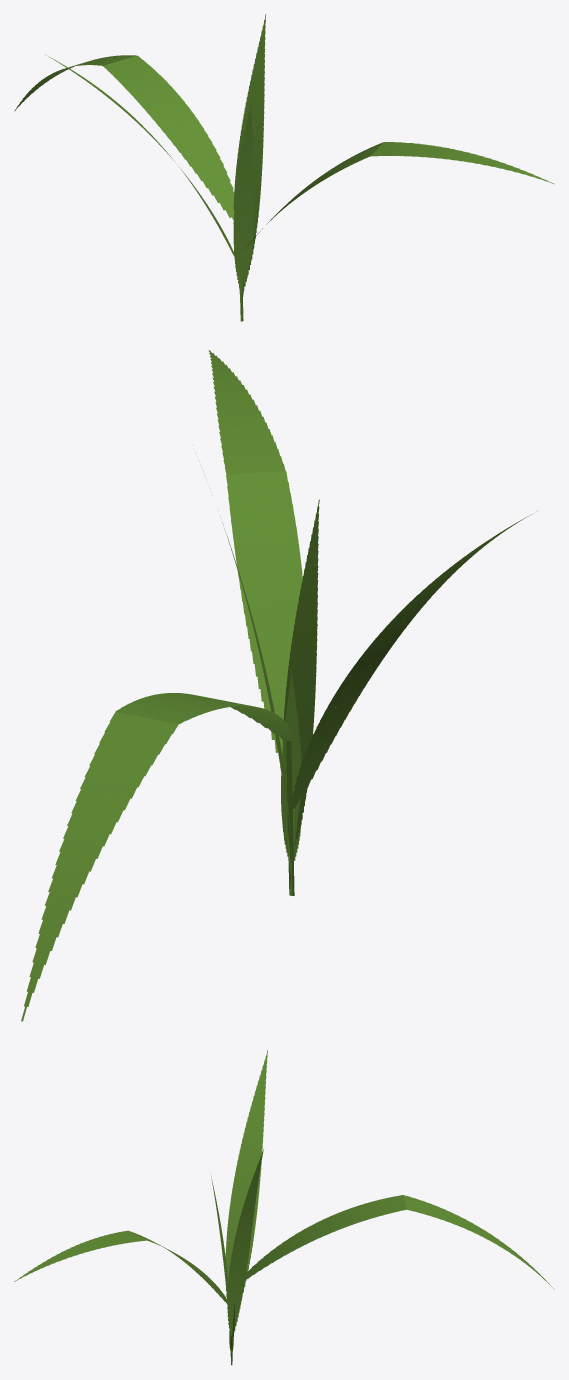
File: maize_004_day_055.dae
3 views of the same model, one above another, from view 1: azimuth 30°, elevation 25°; view 2: azimuth 150°, elevation 25°; view 3: azimuth 270°, elevation 25° (orthographic). The views are drawn at different scales.
Visible parts, largest first — view 1: node; view 2: node; view 3: node.
Part boxes in pixels (x1,y1,x2,y2): node: (14,14,554,321); node: (21,350,537,1021); node: (14,1050,554,1365).
Size of the model in its own units: 0.3962 by 0.3112 by 0.6265.
1 material, 1 textured.
